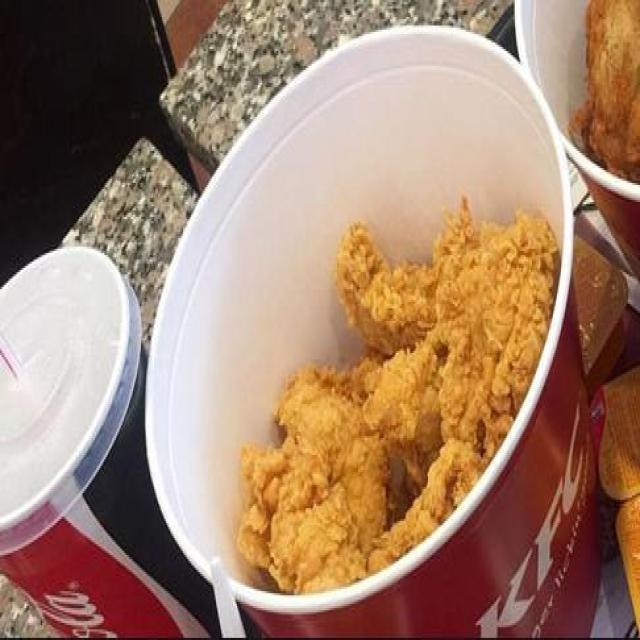Chicken -Fried Chicken-: (237, 202, 560, 595)
